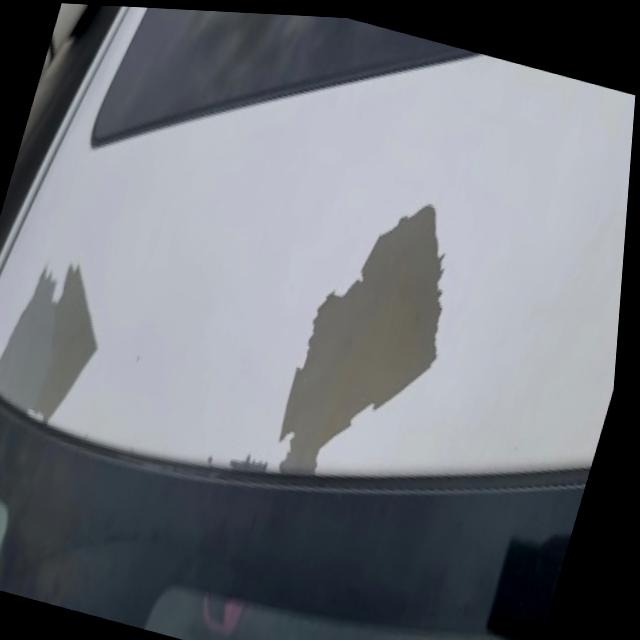Paint-fading: (269, 183, 449, 480), (0, 251, 105, 428)
